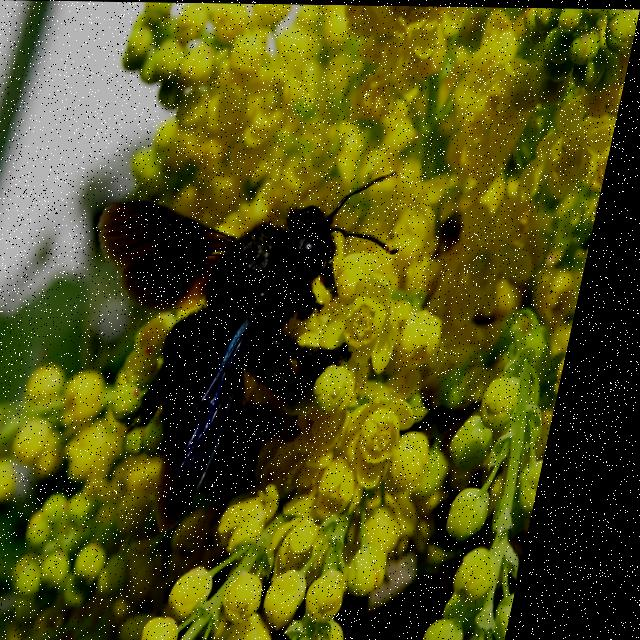Xylocopa: (47, 172, 433, 540)
